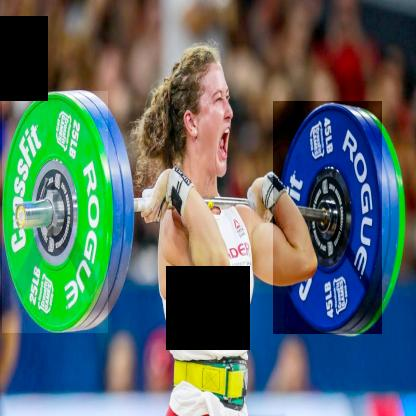barbell: (3, 92, 109, 334), (274, 102, 383, 335)
